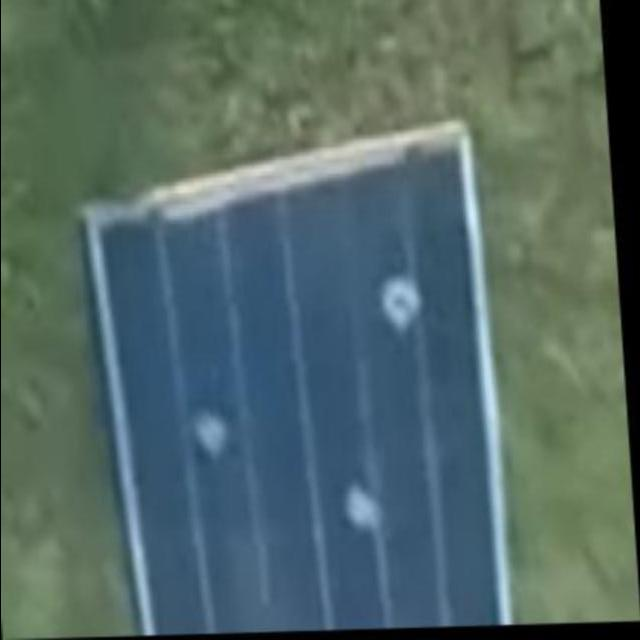soiled: (87, 124, 490, 626)
